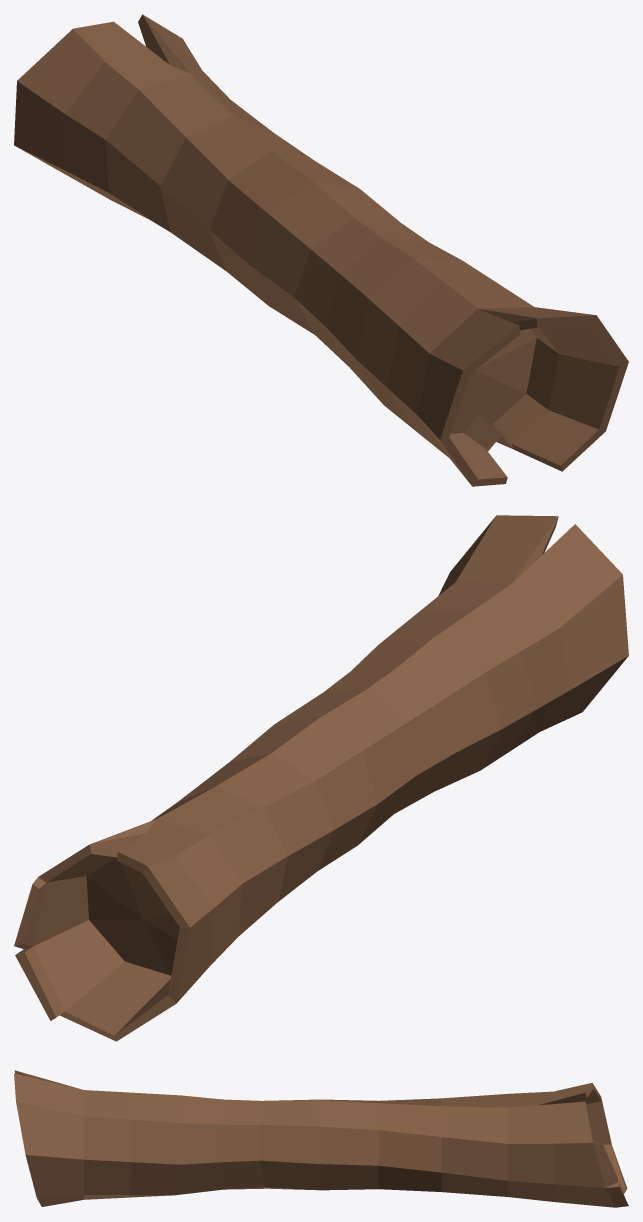
File: logPile.fbx
3 renders of one model, top to bottom at view 1: azimuth 30°, elevation 25°; view 2: azimuth 150°, elevation 25°; view 3: azimuth 270°, elevation 25°, orthographic. The views are drawn at different scales.
Visible parts, largest first — view 1: 圓柱體.009; view 2: 圓柱體.009; view 3: 圓柱體.009.
Boxes of the visible parts, bbox=[...] form: 圓柱體.009: bbox=[14, 14, 628, 486]; 圓柱體.009: bbox=[14, 515, 628, 1041]; 圓柱體.009: bbox=[14, 1070, 628, 1207].
Size of the model in its own units: 229 by 218 by 1001.
